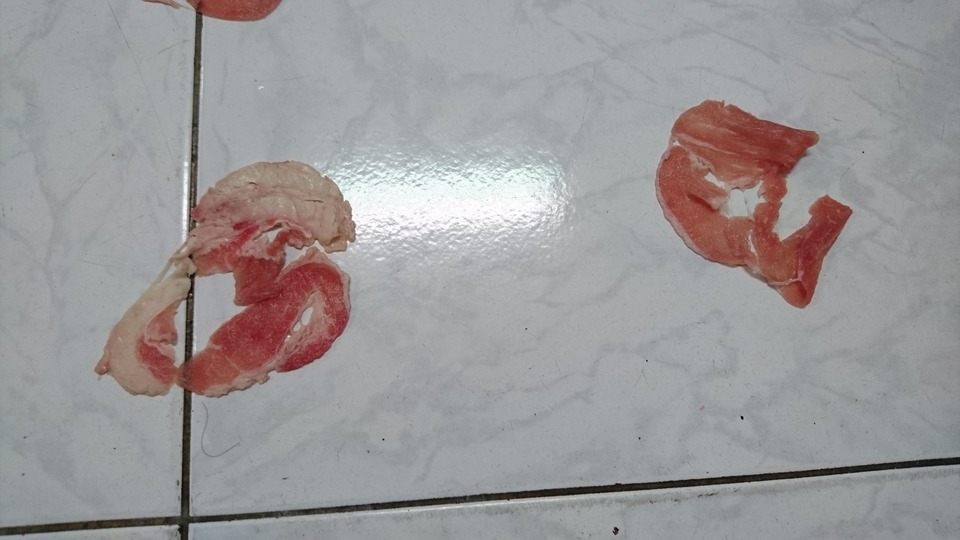restructured meat: (99, 160, 356, 395), (654, 96, 855, 309)
